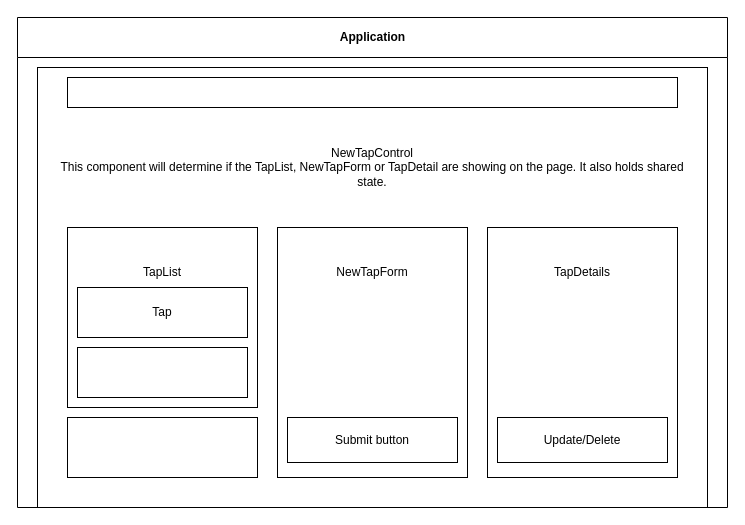
The diagram is 745 pixels wide and 525 high, and some of its shapes have lost their labels. The centre of each missing label's shape, as x and y in pixels:
"Add Tap This button will show NewTapForm" goes at point (162, 447).
"Navbar" goes at point (372, 92).
